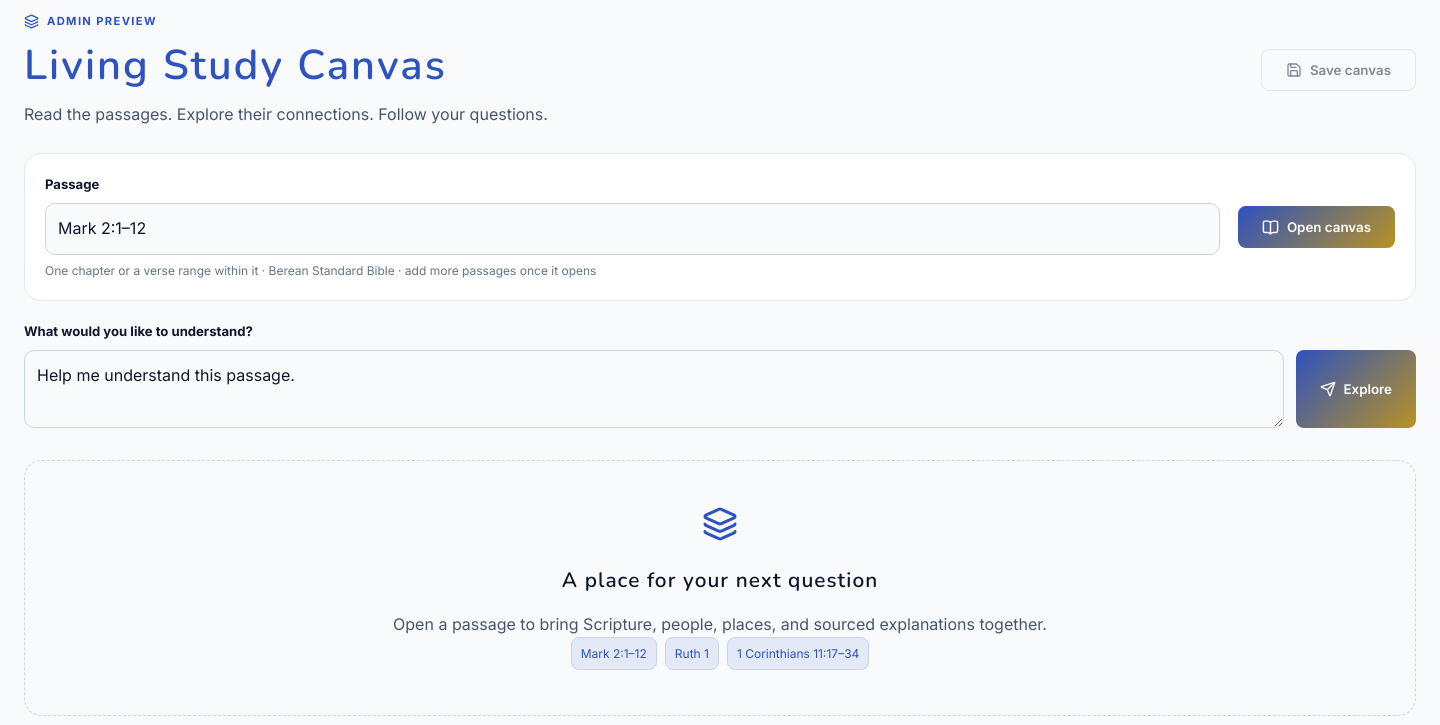
Test: Living Study Canvas › offers export on every study, and sharing only with a synced account
The width and height of the screenshot is (1440, 725).
Click the button "Open canvas" at (1316, 227), box [1238,206,1395,248]
(page scrolled)
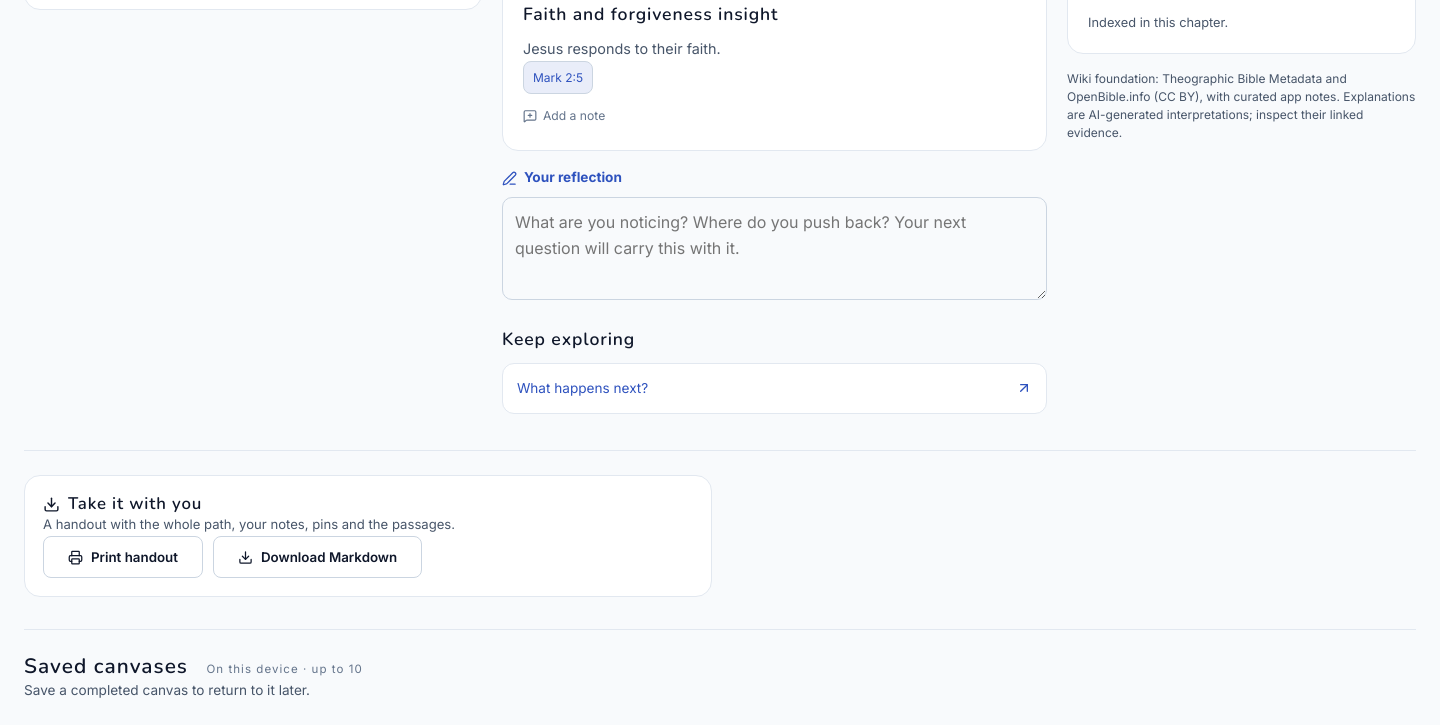
Now the button "Print handout" is shown, box [43,536,203,578]
Now the button "Download Markdown" is shown, box [213,536,422,578]
